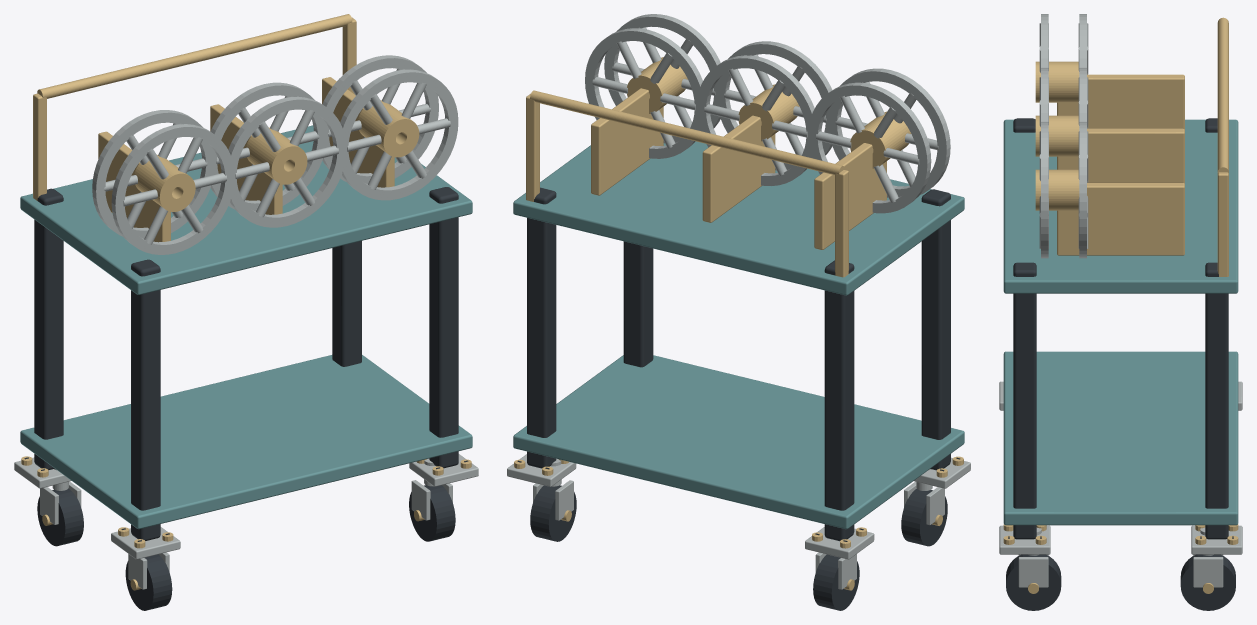
The model's file is abandoned-cinema-and-projection-booth-abandoned-cinema-6a58290d__29713.glb.
3 views of the same model, side by side, from view 1: azimuth 30°, elevation 25°; view 2: azimuth 150°, elevation 25°; view 3: azimuth 270°, elevation 25° (orthographic).
Visible parts, largest first — view 1: abandoned-cinema-and-projection-booth-reel-trolley; view 2: abandoned-cinema-and-projection-booth-reel-trolley; view 3: abandoned-cinema-and-projection-booth-reel-trolley.
Boxes of the visible parts, x1=… form: abandoned-cinema-and-projection-booth-reel-trolley: x1=14, y1=14, x2=478, y2=610; abandoned-cinema-and-projection-booth-reel-trolley: x1=507, y1=14, x2=970, y2=610; abandoned-cinema-and-projection-booth-reel-trolley: x1=999, y1=14, x2=1242, y2=610.
Bounding box in the file's own units: 0.92 × 1.2 × 0.5701.
